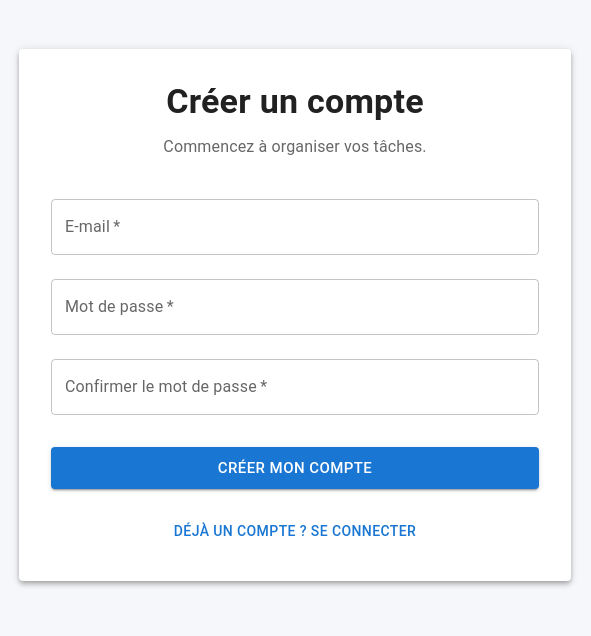
Test: displays throttling details returned by the API
The image size is (591, 636).
In the field labelled "E-mail *": coordinates (295, 227) [51,199,539,255], type "alice@example.com"
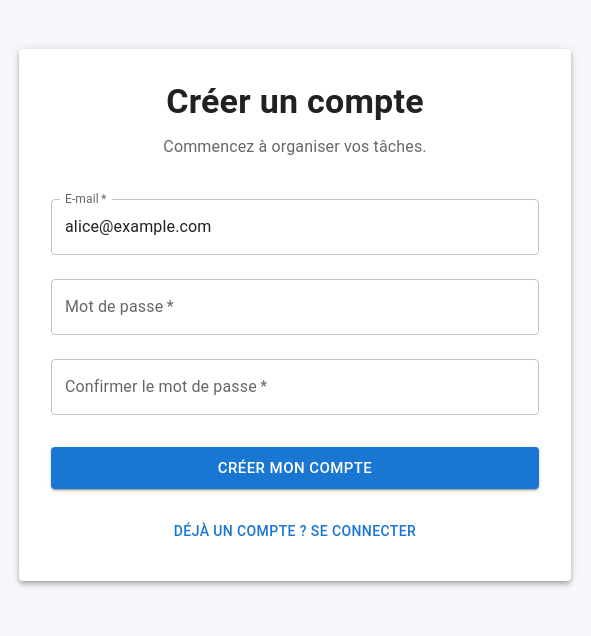
In the password field labelled "Mot de passe *": coordinates (295, 307) [51,279,539,335], type "Une phrase de passe robuste 2026!"
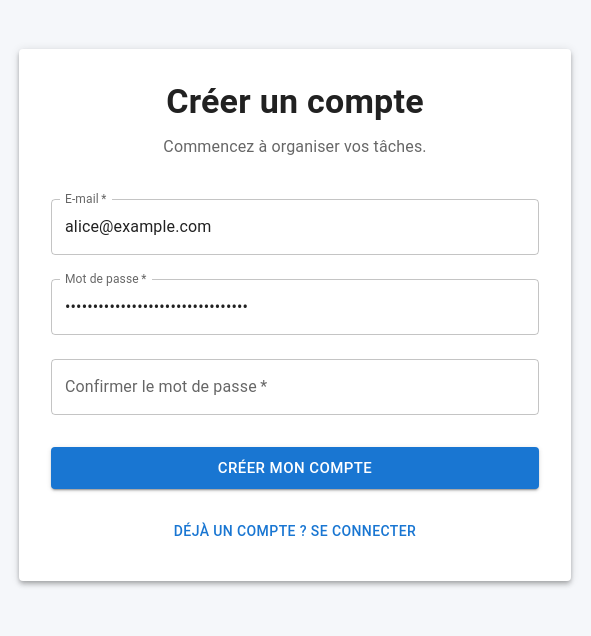
In the password field labelled "Confirmer le mot de passe *": coordinates (295, 387) [51,359,539,415], type "Une phrase de passe robuste 2026!"
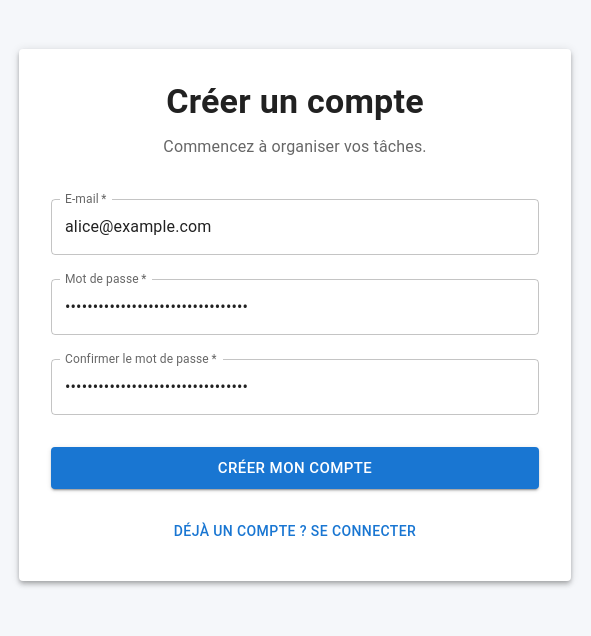
Click the button "Créer mon compte": coordinates (295, 468) [51,447,539,489]
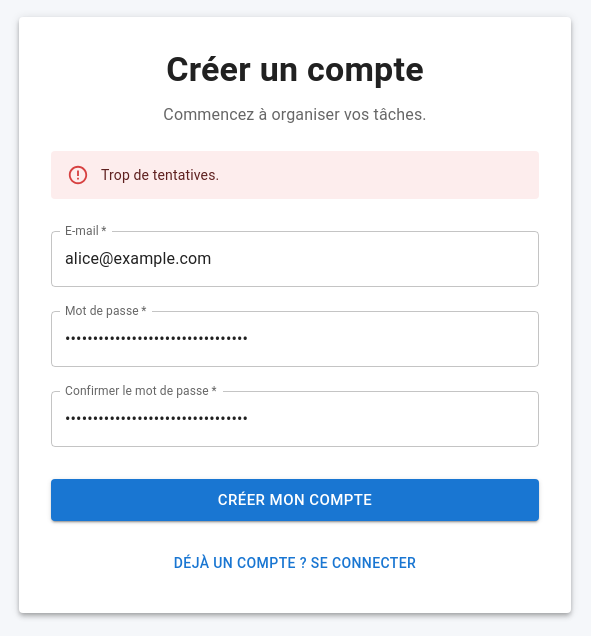
Expected: the text "Trop de tentatives." is shown, [101,166,219,182]
